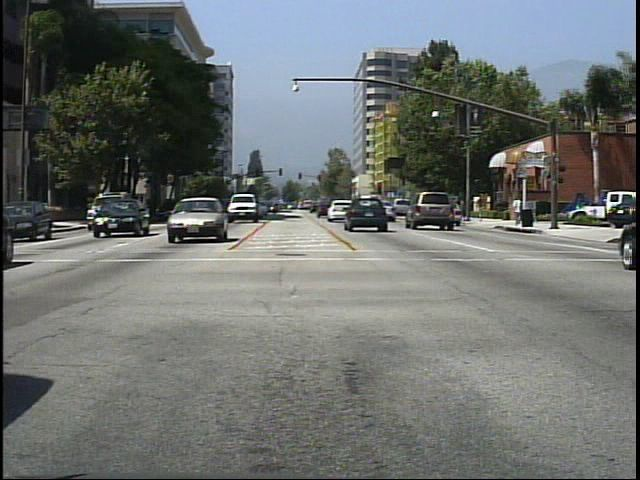person: (509, 193, 524, 229), (474, 192, 487, 224)
